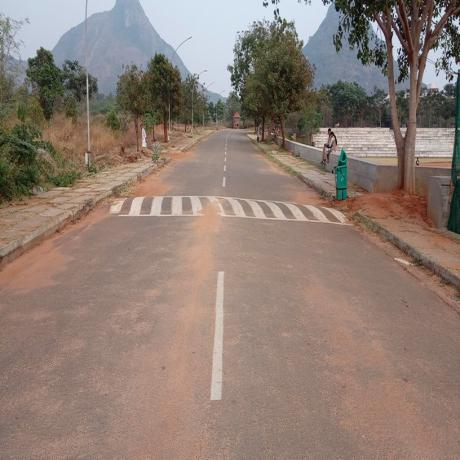Speed Bump: (100, 191, 349, 226)
